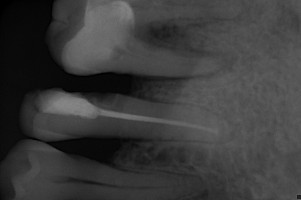Dental Caries: (141, 21, 241, 79)
Furcation Involvement: (181, 187, 210, 200)
